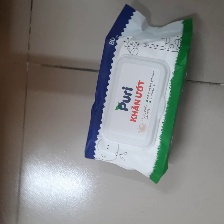Puri Trang: (84, 2, 196, 188)
